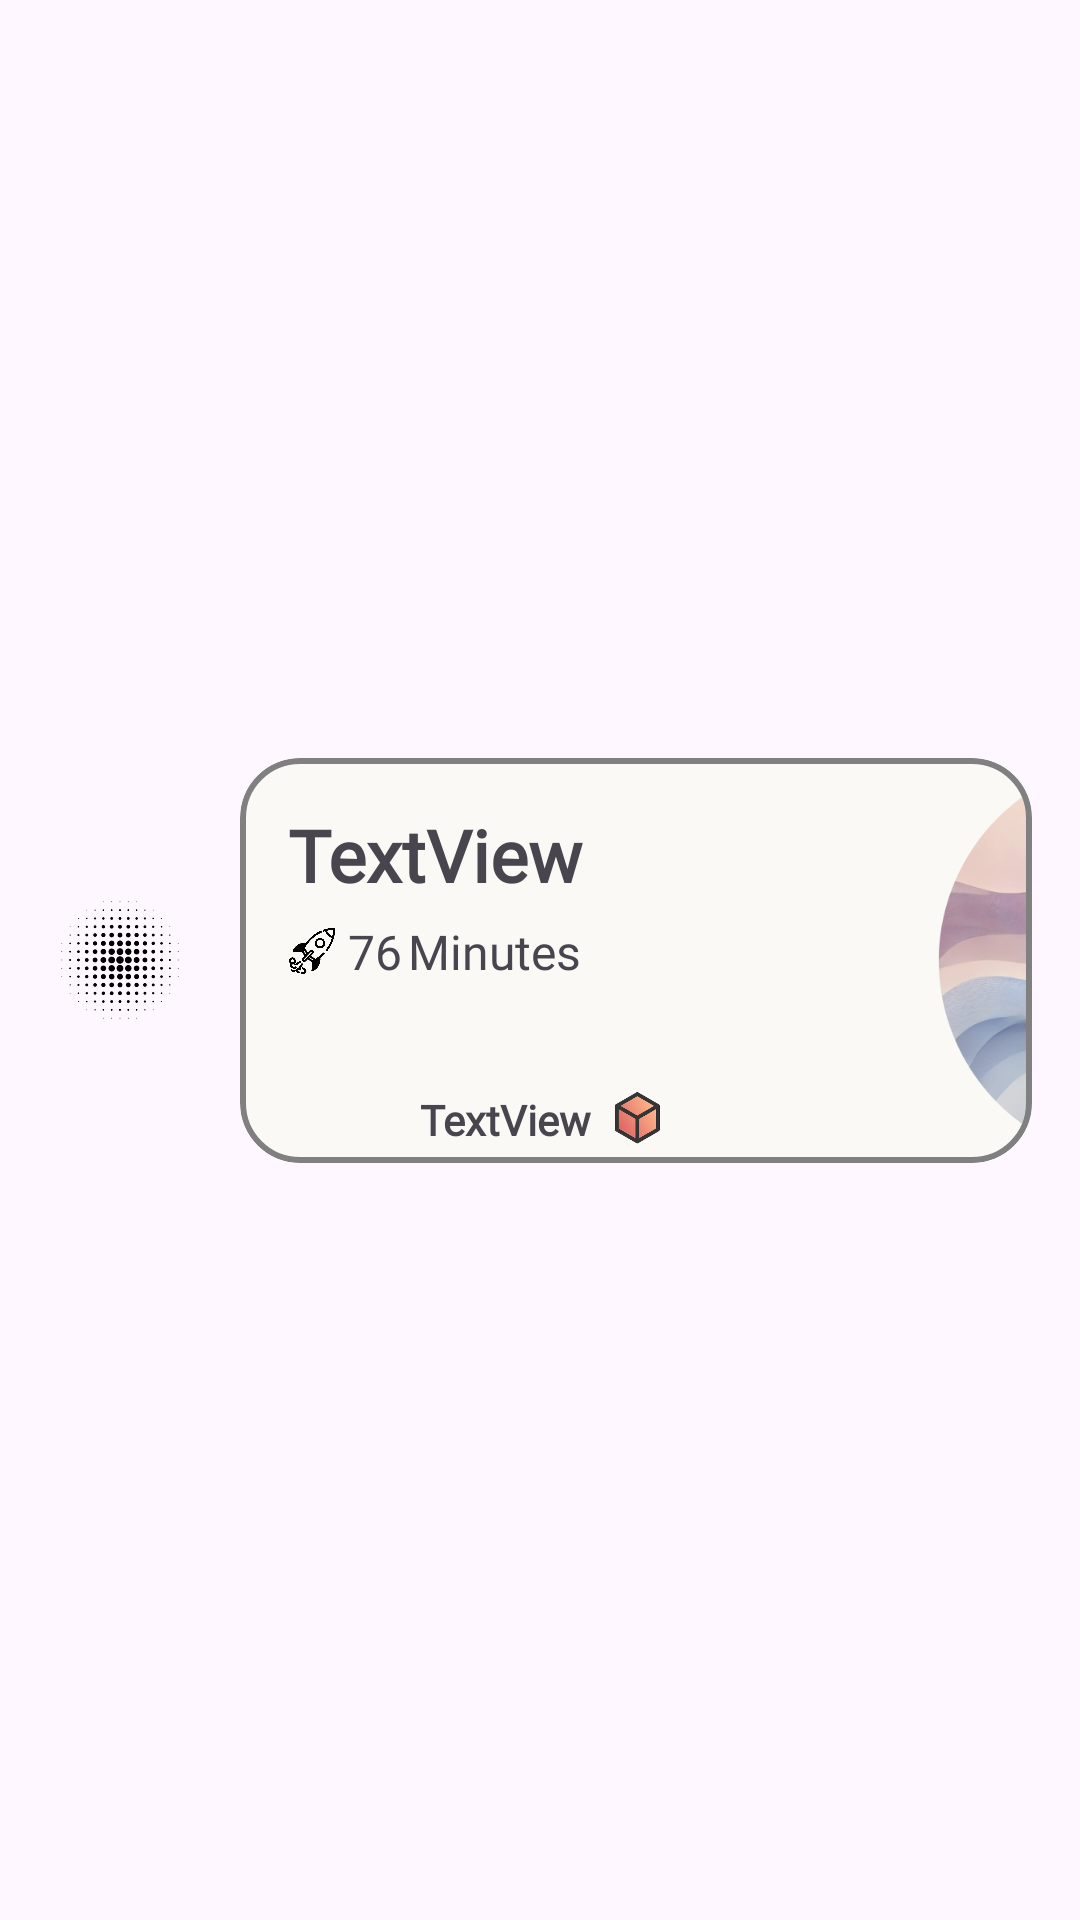

Where to tap for icons on this 1080*1920 app screen, as point (x, y):
block: point (637, 1118)
dotted circle: point (120, 960)
rocket: point (312, 951)
